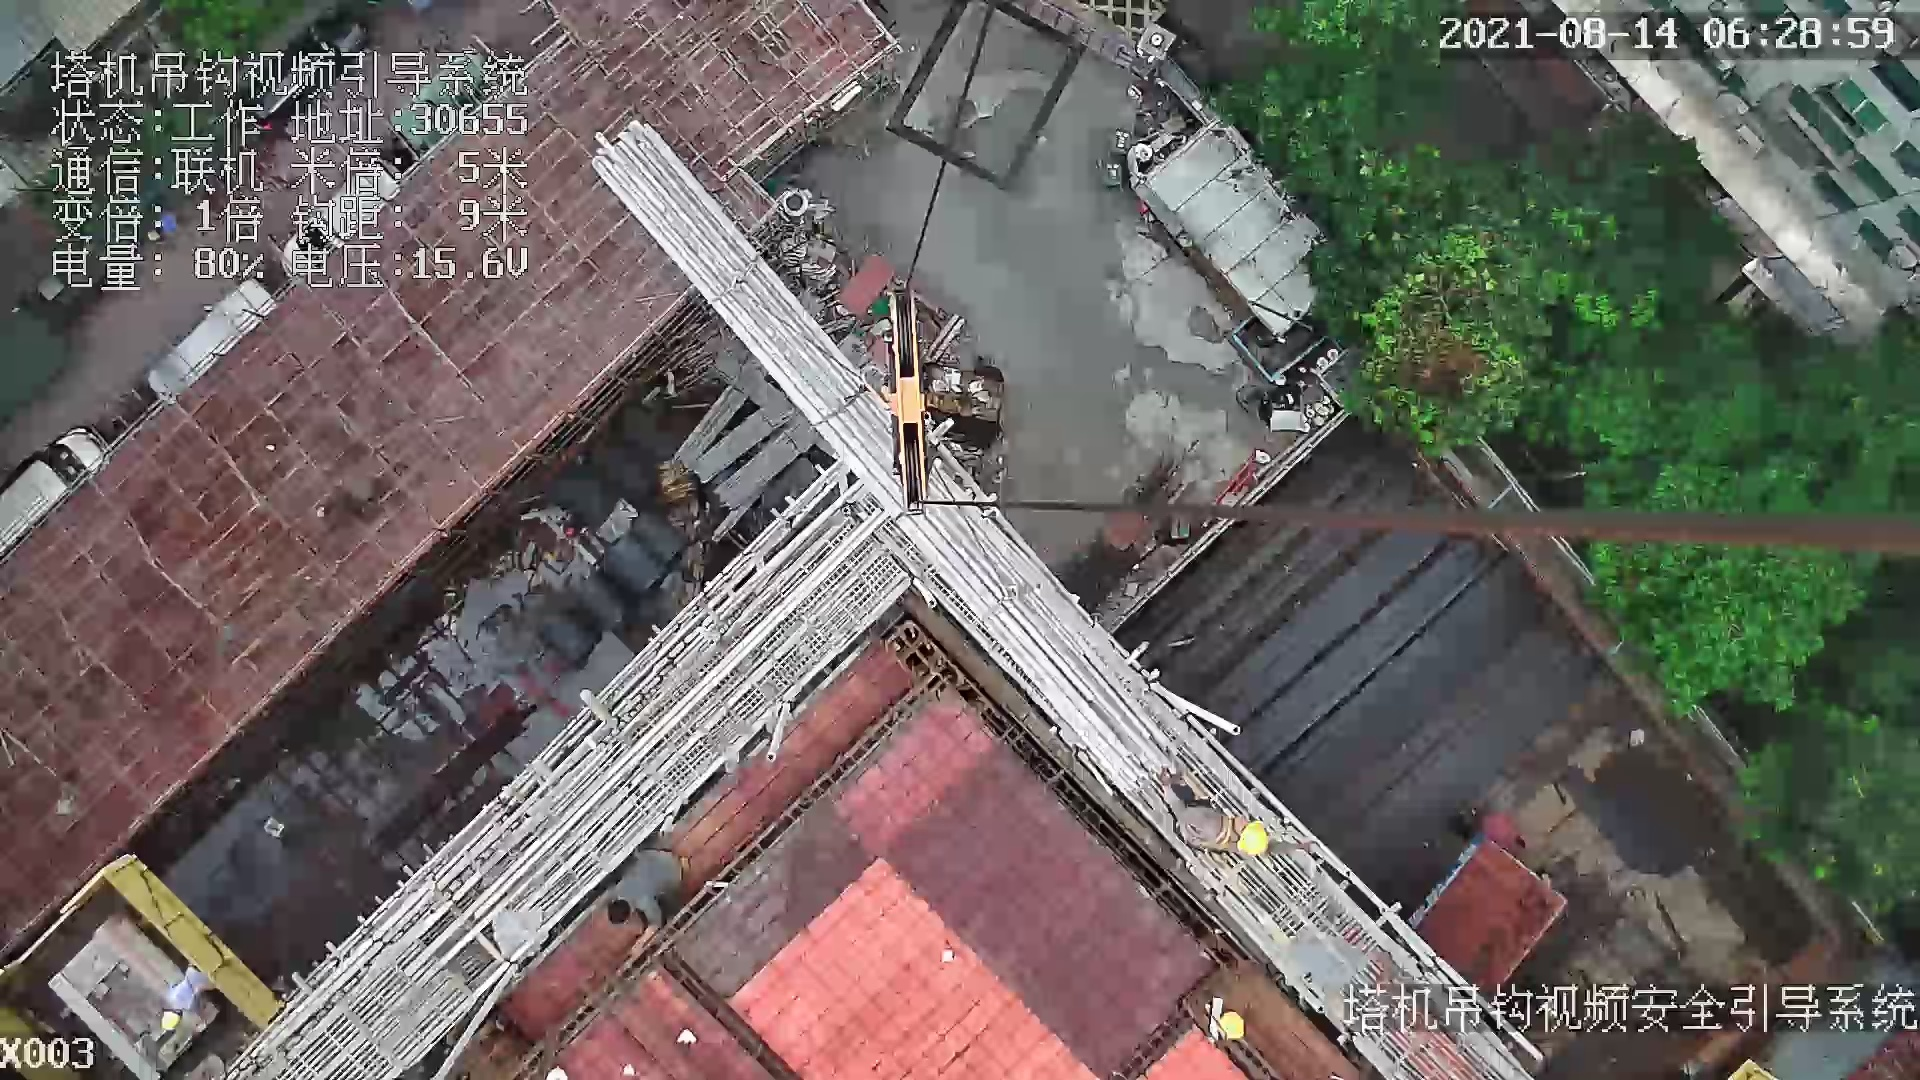helmet: (1232, 817, 1270, 851), (1220, 1010, 1247, 1044)
hook: (878, 285, 933, 521)
person: (1155, 760, 1327, 864)
rebar: (1144, 428, 1588, 832)
